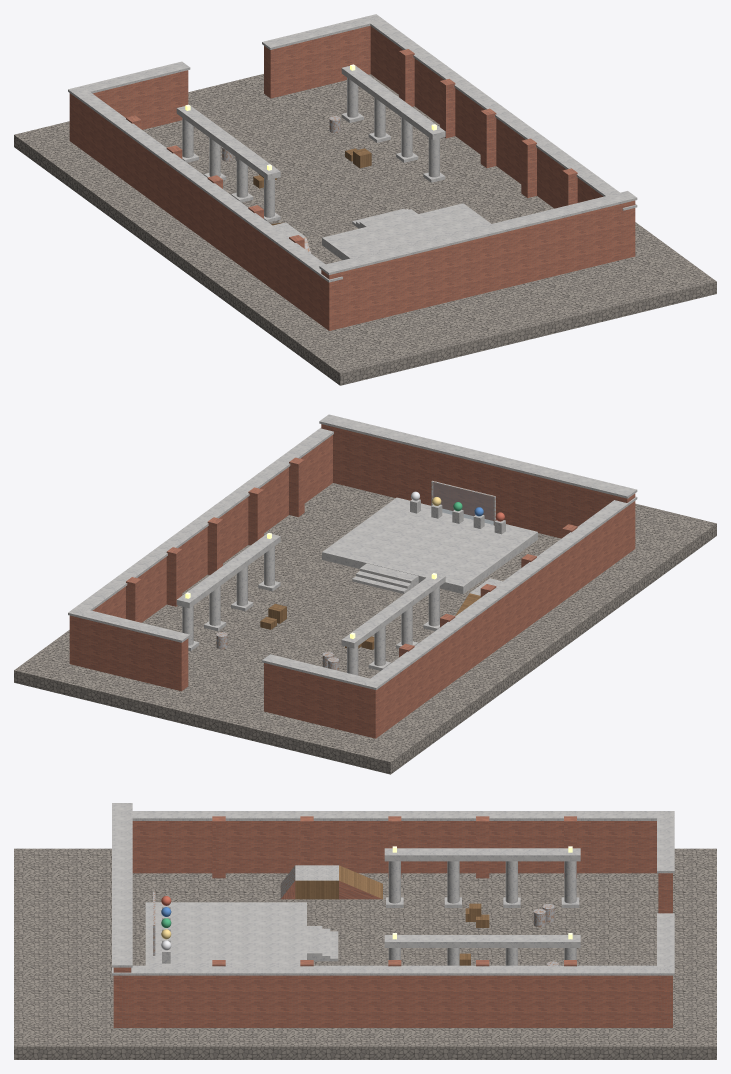
Rendered from courtyard.gltf.
3 views of the same model, one above another, from view 1: azimuth 30°, elevation 25°; view 2: azimuth 150°, elevation 25°; view 3: azimuth 270°, elevation 25° (orthographic). The views are drawn at different scales.
Size of the model in its own units: 32 by 5.78 by 48.
Materials: 12 (5 with a texture image).
